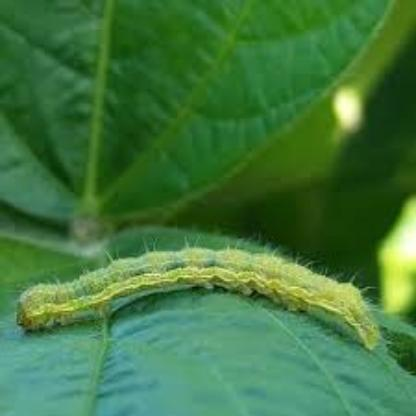oruga: (20, 244, 392, 358)
